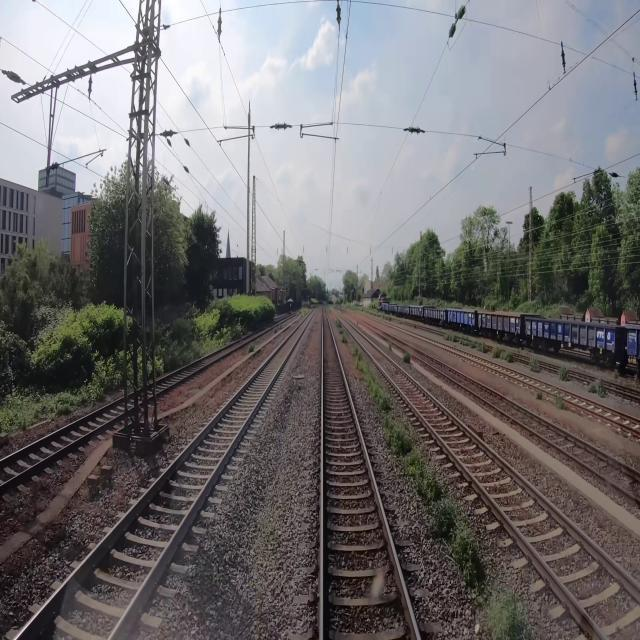Plant: (381, 418, 462, 539), (471, 576, 533, 639), (446, 527, 486, 587), (354, 354, 392, 410), (585, 378, 608, 399), (490, 347, 514, 363), (556, 366, 573, 383), (553, 394, 566, 413), (528, 356, 543, 372), (402, 349, 412, 365), (533, 389, 544, 401), (442, 332, 454, 342), (478, 341, 486, 353), (351, 345, 360, 355), (341, 333, 348, 344), (458, 337, 465, 347), (336, 321, 342, 328), (471, 340, 476, 348), (340, 329, 344, 333)
